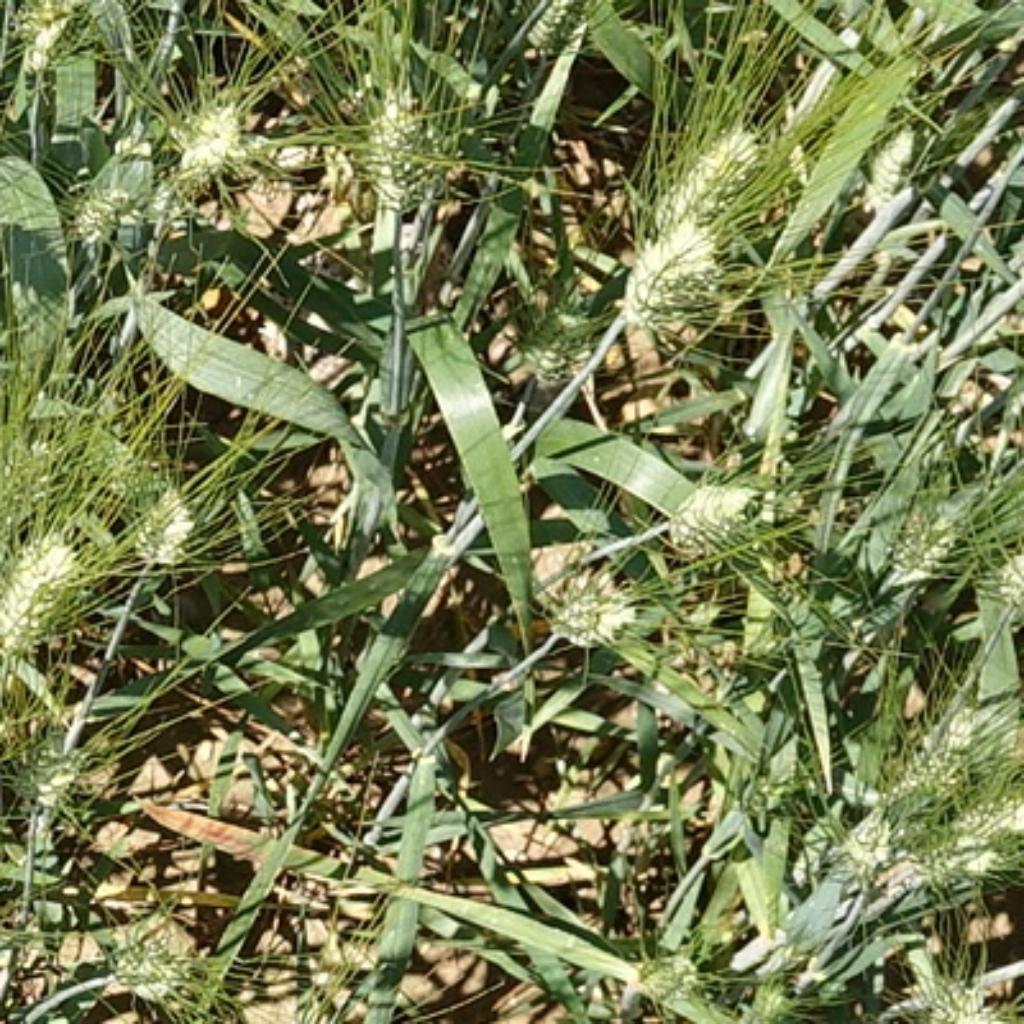0-0: (337, 66, 468, 209), (828, 736, 956, 871), (871, 810, 1023, 909), (646, 119, 785, 227), (874, 476, 992, 602), (613, 206, 731, 329), (0, 526, 93, 662), (67, 135, 175, 241), (535, 547, 640, 647), (156, 76, 253, 181), (498, 295, 593, 399), (879, 958, 1012, 1024), (100, 925, 207, 1007), (669, 470, 770, 552), (626, 942, 715, 1017), (131, 483, 199, 564), (16, 7, 89, 75), (30, 753, 94, 826), (518, 0, 584, 66), (988, 547, 1024, 623), (217, 1021, 337, 1024), (0, 670, 2, 811)
